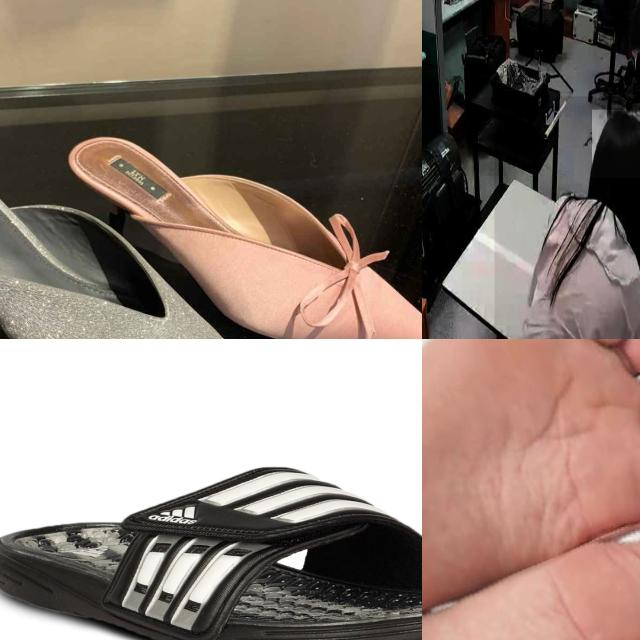Barefoots: (422, 339, 640, 640), (422, 513, 640, 640)
Sandals: (63, 107, 422, 339), (0, 464, 422, 640), (0, 141, 309, 339)
head_nohelmet: (592, 109, 640, 179)
person: (494, 96, 640, 339)
